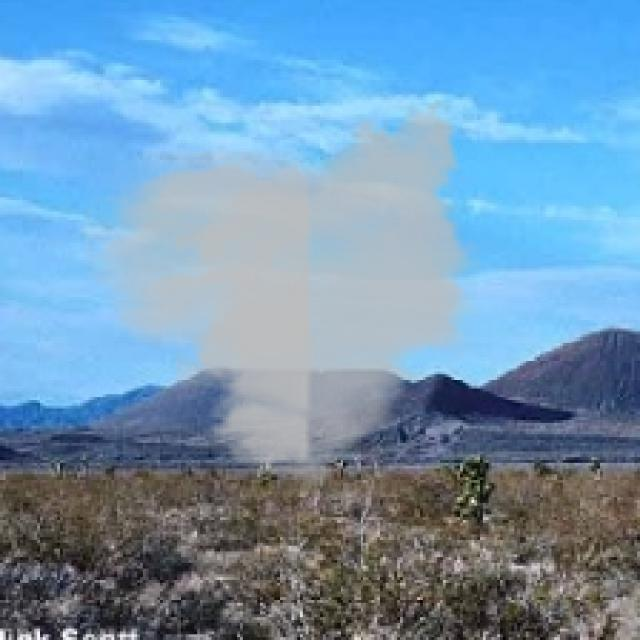smoke: (83, 89, 486, 500)
